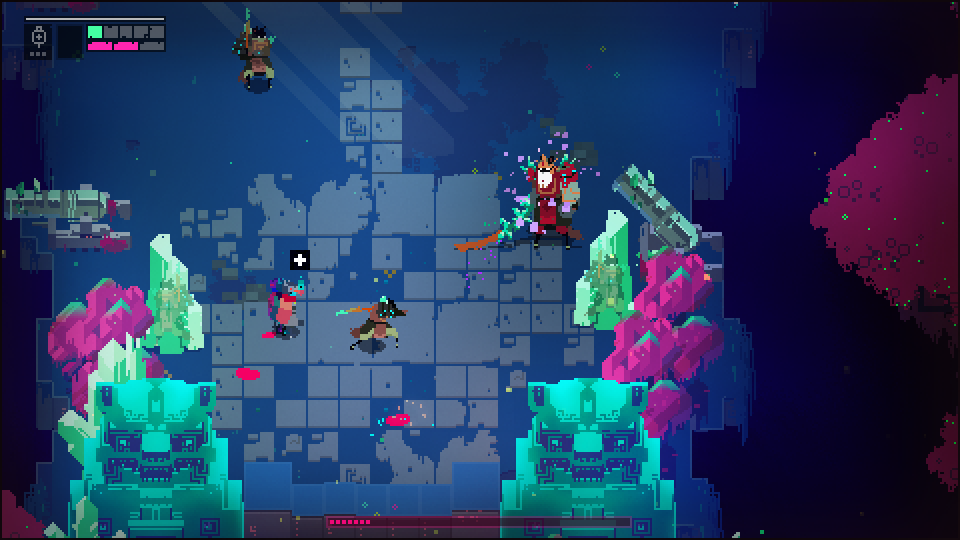hanged_man: (488, 151, 591, 247)
player: (270, 281, 304, 344)
